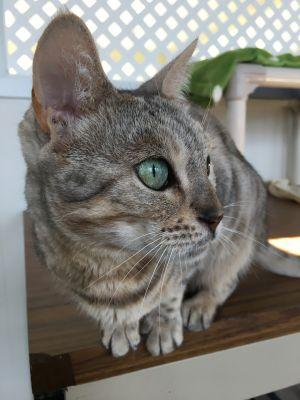bengal: (20, 1, 243, 276)
